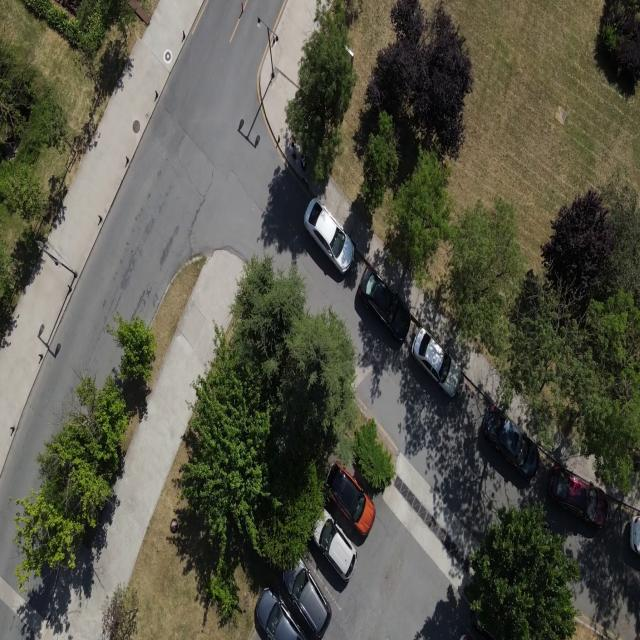p3rson: (289, 140, 299, 164), (300, 151, 306, 172)
